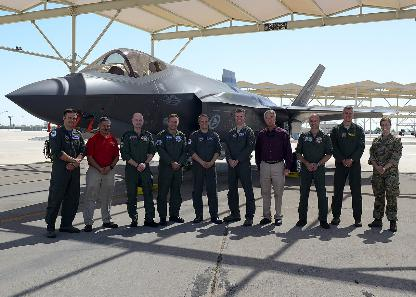F22: (3, 47, 399, 186)
